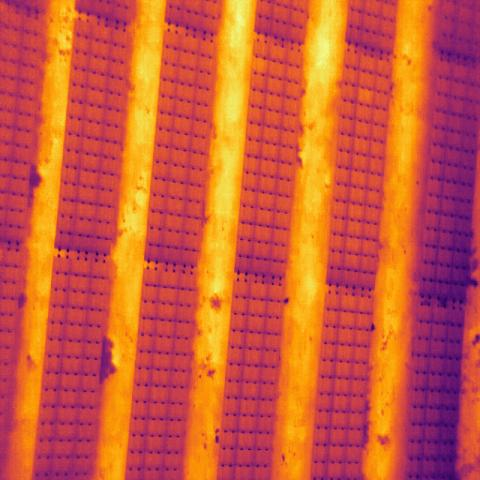fault: (356, 86, 374, 108)
